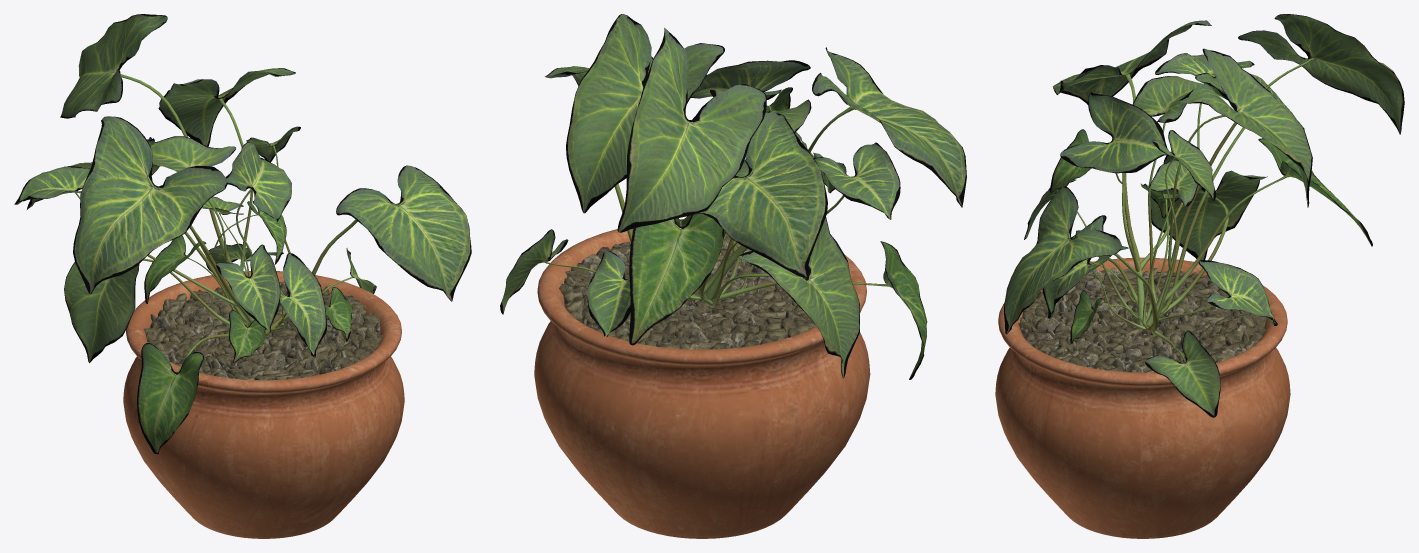
The model's file is potted_plant_1k.glb.
3 views of the same model, side by side, from view 1: azimuth 30°, elevation 25°; view 2: azimuth 150°, elevation 25°; view 3: azimuth 270°, elevation 25° (orthographic). The views are drawn at different scales.
Parts seen in each view (by area): view 1: potted_plant_02_leaves, potted_plant_02_pot, potted_plant_02_dirt; view 2: potted_plant_02_leaves, potted_plant_02_pot, potted_plant_02_dirt; view 3: potted_plant_02_leaves, potted_plant_02_pot, potted_plant_02_dirt.
Boxes of the visible parts, x1,y1,x2,y2 form: potted_plant_02_leaves: (14,14,471,454); potted_plant_02_pot: (123,271,404,538); potted_plant_02_dirt: (143,282,383,380); potted_plant_02_leaves: (500,14,966,379); potted_plant_02_pot: (534,219,870,538); potted_plant_02_dirt: (559,234,816,349); potted_plant_02_leaves: (1004,14,1404,417); potted_plant_02_pot: (995,257,1290,538); potted_plant_02_dirt: (1018,267,1266,372).
Bounding box in the file's own units: 0.7012 × 0.8412 × 0.6574.
Materials: 2 (2 with a texture image).
